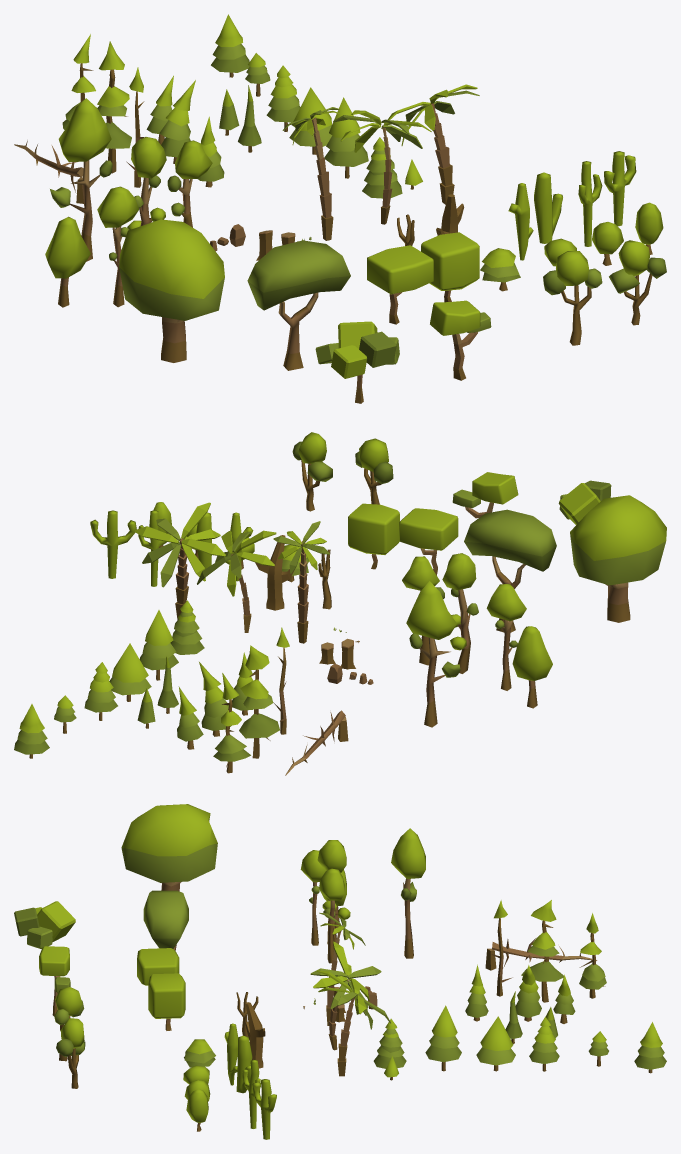
The model's file is SpringC.fbx.
3 views of the same model, one above another, from view 1: azimuth 30°, elevation 25°; view 2: azimuth 150°, elevation 25°; view 3: azimuth 270°, elevation 25° (orthographic). The views are drawn at different scales.
Visible parts, largest first — view 1: tree_gen8, tree_gen9, tree_gen6, tree53, tree52, tree51, tree_gen12, tree55, tree_Maple5, tree54, Tree_Palm_006, Tree5 (+25 smaller); view 2: tree_gen8, tree_gen9, Tree_Palm_006, tree_gen6, tree51, tree52, Tree5, tree_fir2, Tree_palm5, palm7, tree_Maple5, tree55 (+20 smaller); view 3: tree_gen8, tree_gen9, tree_gen6, tree53, tree51, Tree_palm5, tree_fir2, Tree_Palm_006, Gen_Tree_Fir66, Gen_Tree_Fir71, tree52, tree55 (+22 smaller).
Boxes of the visible parts, box(x1,y1,x2,y2) form: tree_gen8: box(119, 219, 224, 362); tree_gen9: box(247, 240, 350, 370); tree_gen6: box(50, 98, 112, 261); tree53: box(315, 321, 399, 403); tree52: box(367, 245, 433, 324); tree51: box(421, 232, 479, 302); tree_gen12: box(543, 251, 602, 345); tree55: box(430, 300, 491, 380); tree_Maple5: box(45, 216, 90, 307); tree54: box(609, 240, 666, 325); Tree_Palm_006: box(387, 84, 479, 204); Tree5: box(127, 137, 166, 229); tree_gen8: box(570, 495, 666, 622); tree_gen9: box(464, 509, 556, 632); Tree_Palm_006: box(134, 502, 225, 619); tree_gen6: box(406, 581, 460, 727); tree51: box(348, 503, 399, 569); tree52: box(399, 508, 458, 575); Tree5: box(442, 553, 478, 673); tree_fir2: box(239, 645, 279, 758); Tree_palm5: box(197, 530, 276, 632); palm7: box(273, 521, 329, 643); tree_Maple5: box(512, 626, 552, 708); tree55: box(452, 472, 518, 518); tree_gen8: box(121, 804, 217, 891); tree_gen9: box(143, 890, 188, 950); tree_gen6: box(391, 828, 425, 958); tree53: box(14, 901, 75, 948); tree51: box(148, 973, 185, 1030); Tree_palm5: box(310, 941, 381, 1050); tree_fir2: box(521, 900, 563, 1002); Tree_Palm_006: box(316, 970, 390, 1076); Gen_Tree_Fir66: box(425, 1005, 461, 1071); Gen_Tree_Fir71: box(476, 1016, 515, 1071); tree52: box(137, 948, 179, 985); tree55: box(39, 946, 70, 1016).
Size of the model in its own units: 26.16 by 7.74 by 32.17.
